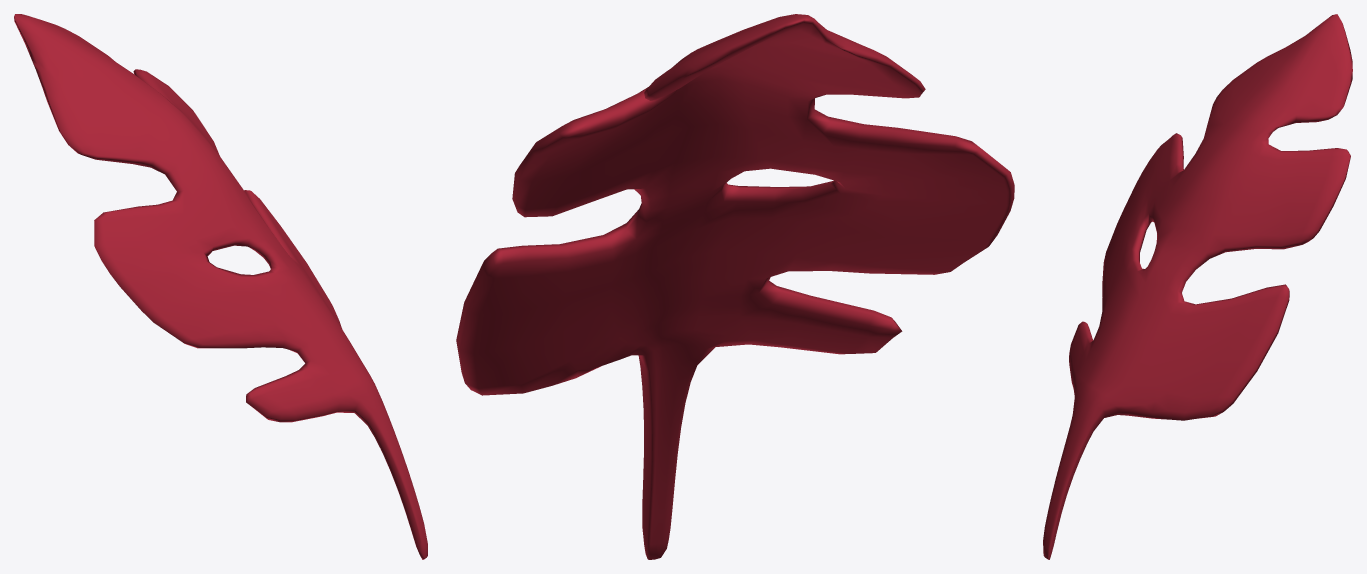
Rendered from Leaf_11_5.fbx.
3 views of the same model, side by side, from view 1: azimuth 30°, elevation 25°; view 2: azimuth 150°, elevation 25°; view 3: azimuth 270°, elevation 25° (orthographic). The views are drawn at different scales.
Parts seen in each view (by area): view 1: Leaf_11; view 2: Leaf_11; view 3: Leaf_11.
Boxes of the visible parts, <box> form: Leaf_11: <box>14,14,427,559</box>; Leaf_11: <box>456,14,1014,559</box>; Leaf_11: <box>1043,14,1352,559</box>.
Bounding box in the file's own units: 192 × 327 × 210.
